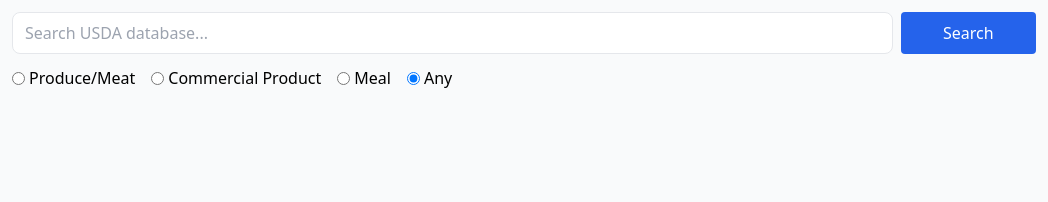
IngredientSearch › results display › renders returned food items
Step 1. Type "chicken" into the field with placeholder "Search USDA database..." → (452, 33), box [12, 12, 893, 54]
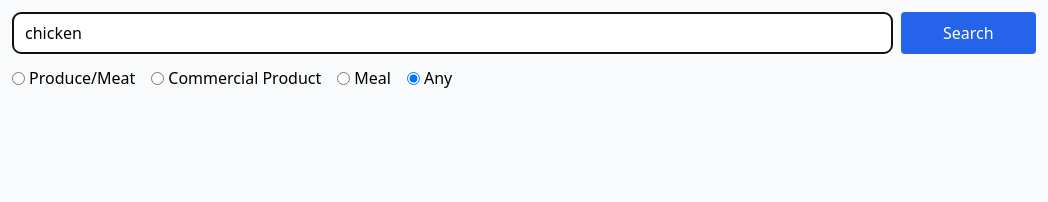
Step 2. Click the button "Search" → (968, 33), box [901, 12, 1036, 54]
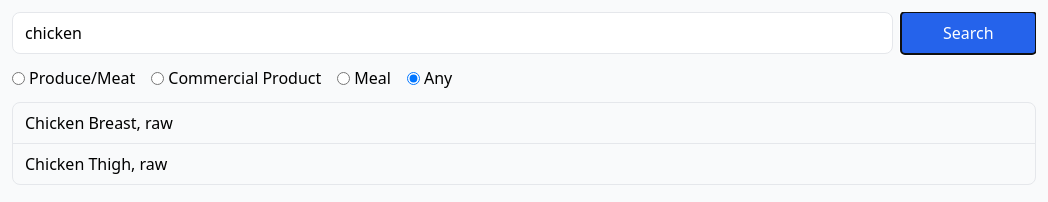
Expected: the text "Chicken Breast, raw" is shown, [25, 112, 173, 134]
Expected: the text "Chicken Thigh, raw" is shown, [25, 153, 167, 175]
